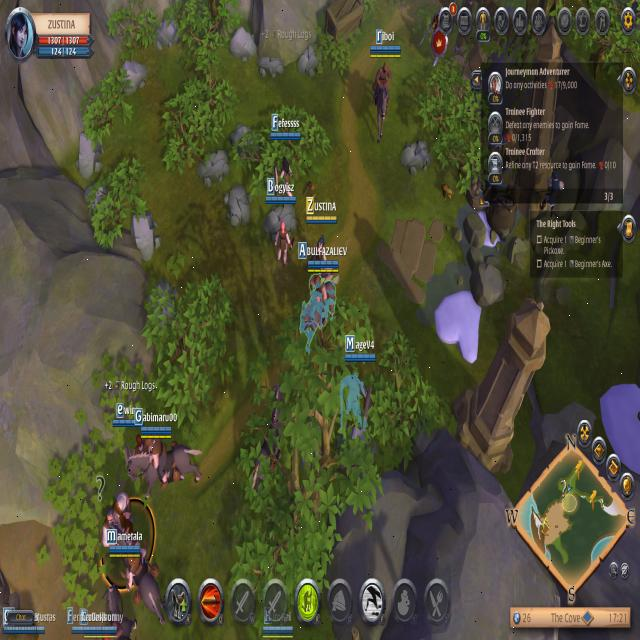broken stone: (257, 196, 302, 247), (398, 125, 432, 185), (142, 279, 182, 326), (195, 144, 233, 190), (232, 122, 261, 162), (296, 44, 324, 85), (259, 47, 286, 85), (222, 190, 251, 223)
stone: (129, 204, 161, 262), (114, 58, 152, 101), (78, 130, 106, 182), (151, 14, 182, 54), (84, 182, 115, 220), (227, 23, 256, 63)
